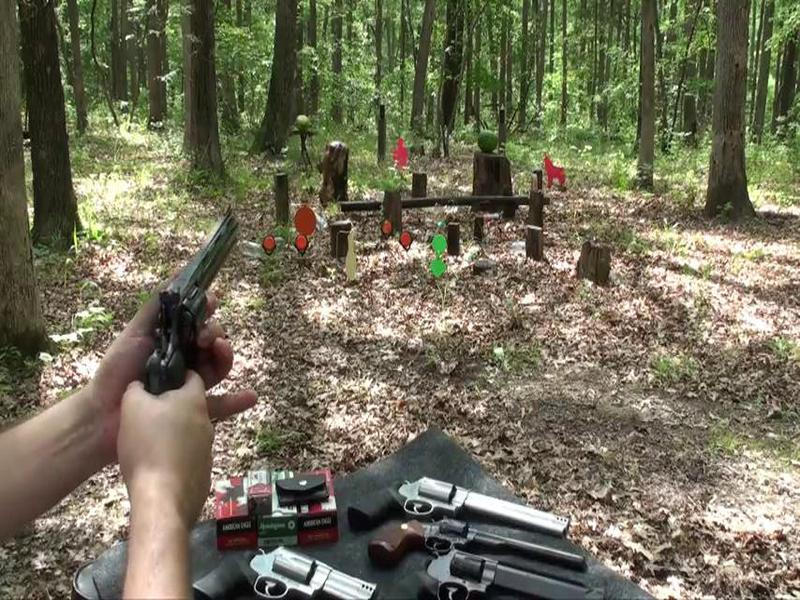Revolver: (129, 202, 281, 445)
